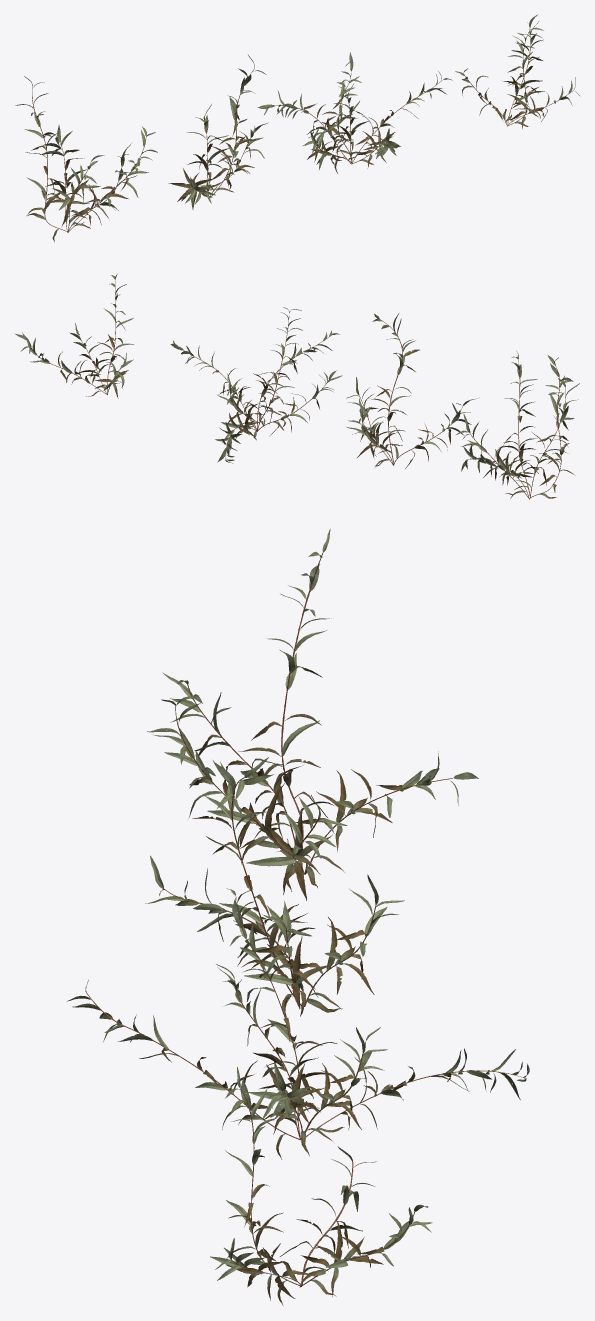
The model's file is shrub_02.glb.
The picture shows the model from 3 angles, top to bottom: view 1: azimuth 30°, elevation 25°; view 2: azimuth 150°, elevation 25°; view 3: azimuth 270°, elevation 25°; orthographic projection. The views are drawn at different scales.
Visible parts, largest first — view 1: shrub_02_c, shrub_02_a, shrub_02_b, shrub_02_d; view 2: shrub_02_a, shrub_02_c, shrub_02_b, shrub_02_d; view 3: shrub_02_a, shrub_02_c, shrub_02_b, shrub_02_d.
Boxes of the visible parts, x1,y1,x2,y2 form: shrub_02_c: [257, 52, 452, 173]; shrub_02_a: [15, 76, 157, 242]; shrub_02_b: [168, 54, 268, 209]; shrub_02_d: [455, 14, 580, 128]; shrub_02_a: [456, 351, 579, 499]; shrub_02_c: [170, 307, 342, 463]; shrub_02_b: [346, 313, 479, 468]; shrub_02_d: [14, 274, 134, 398]; shrub_02_a: [147, 528, 478, 900]; shrub_02_c: [67, 888, 529, 1159]; shrub_02_b: [145, 757, 404, 1018]; shrub_02_d: [210, 1067, 432, 1305].
Bounding box in the file's own units: 6.05 × 1.7 × 2.29.
Materials: 1 (1 with a texture image).
